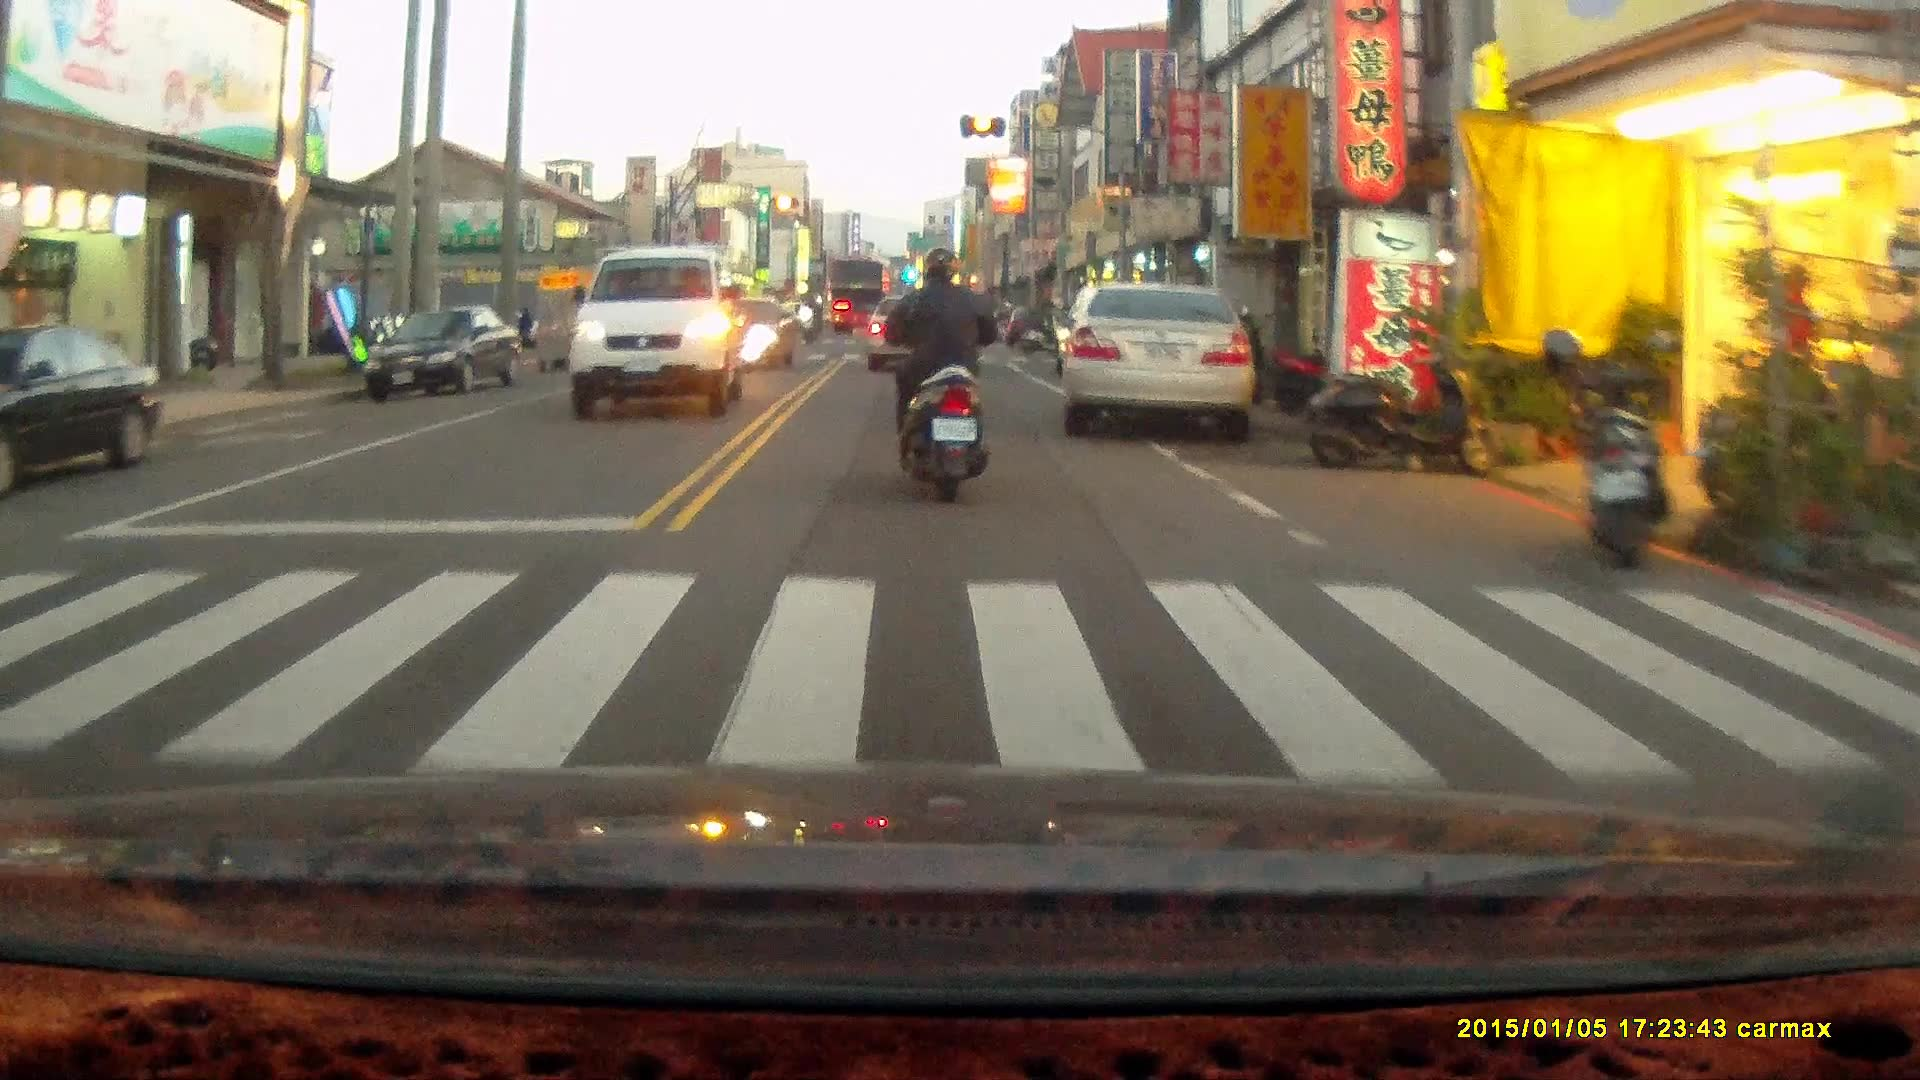rider: (880, 243, 1001, 504)
vehicle: (571, 239, 743, 421), (1061, 278, 1259, 433), (1, 319, 168, 499), (363, 299, 522, 403), (863, 285, 964, 364)
